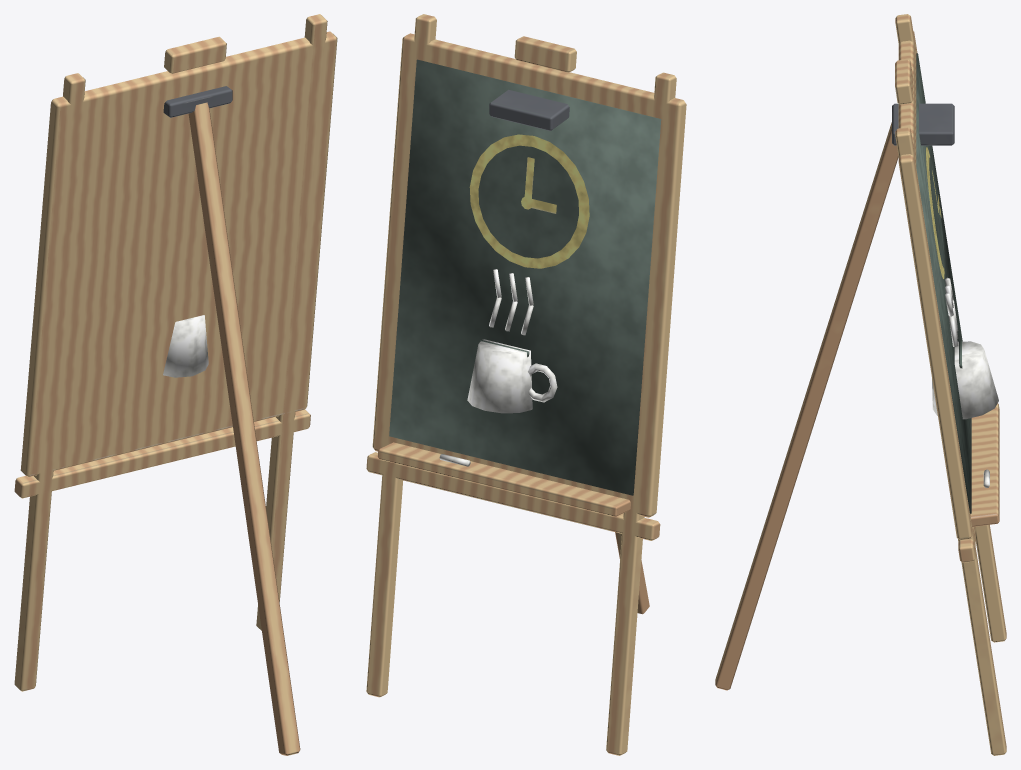
File: Cafe_CoffeeBoard.fbx
The picture shows the model from 3 angles, left to right: view 1: azimuth 30°, elevation 25°; view 2: azimuth 150°, elevation 25°; view 3: azimuth 270°, elevation 25°; orthographic projection. The views are drawn at different scales.
Parts seen in each view (by area): view 1: Cafe_CoffeeBoard; view 2: Cafe_CoffeeBoard; view 3: Cafe_CoffeeBoard.
Part boxes in pixels (<box>): Cafe_CoffeeBoard: <box>14,14,337,755</box>; Cafe_CoffeeBoard: <box>366,14,686,755</box>; Cafe_CoffeeBoard: <box>715,14,1006,755</box>.
Bounding box in the file's own units: 0.72 × 1.54 × 0.6515.
1 material, 1 textured.
